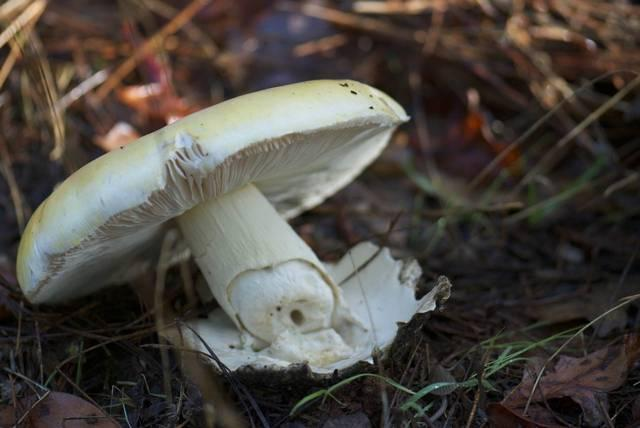Edible Mushroom: (15, 76, 416, 384)
